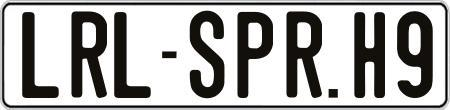9: (394, 8, 434, 98)
H: (354, 12, 387, 100)
L: (22, 10, 64, 99), (112, 10, 152, 99)
P: (238, 10, 277, 96)
R: (70, 9, 110, 98), (286, 8, 322, 96)
S: (187, 9, 225, 100)
